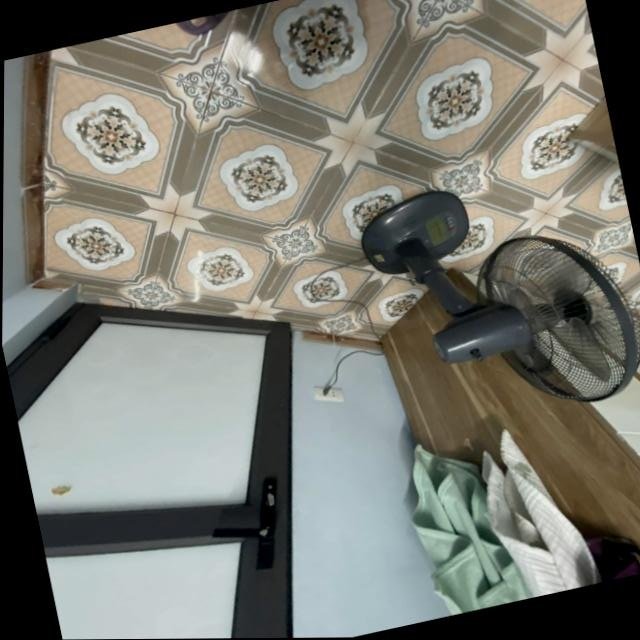outlet: (310, 380, 344, 409)
